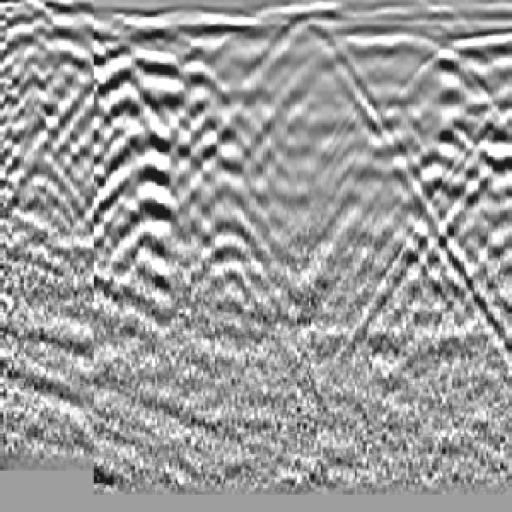non-metallic: (54, 34, 243, 286), (349, 41, 512, 284)
